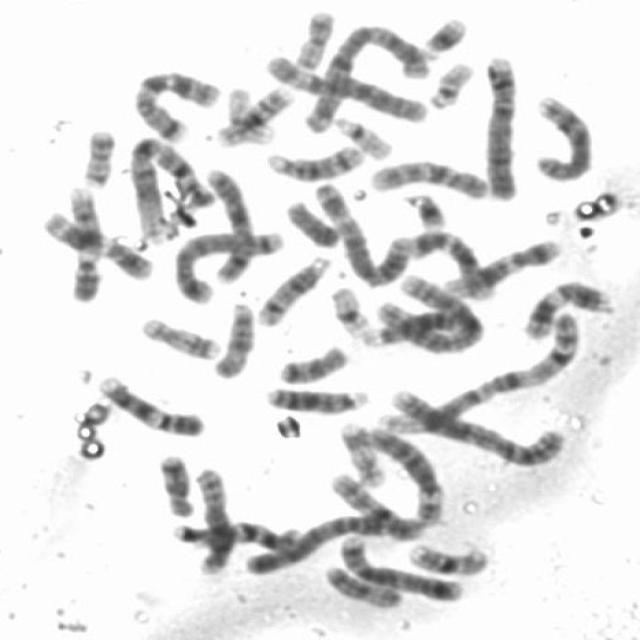A1: (373, 305, 584, 439), (119, 127, 214, 245)
A2: (380, 379, 568, 468), (359, 268, 487, 353)
A3: (294, 14, 434, 135), (307, 173, 417, 288)
B4: (237, 503, 418, 576), (474, 46, 524, 202)
B5: (166, 220, 288, 304), (332, 528, 467, 603)
C10: (321, 464, 426, 542), (362, 150, 493, 201)
C11: (34, 202, 156, 281), (514, 272, 614, 341)
C12: (436, 230, 564, 299), (400, 221, 498, 301)
C6: (256, 45, 433, 124), (356, 419, 447, 526)
C7: (123, 60, 225, 144), (163, 512, 304, 554)
C8: (525, 86, 596, 183), (185, 458, 236, 576)
C9: (89, 367, 207, 438), (56, 176, 106, 305)
D13: (363, 297, 469, 352), (258, 376, 371, 416)
D14: (248, 248, 333, 327), (258, 136, 368, 183)
D15: (204, 293, 258, 380), (315, 558, 404, 610)
E16: (208, 78, 295, 148), (400, 535, 492, 577)
E17: (133, 308, 223, 362), (332, 413, 388, 489)
E18: (270, 336, 352, 385), (150, 446, 198, 518)
F19: (322, 278, 374, 338), (222, 86, 274, 142)
F20: (284, 1, 337, 71), (72, 120, 118, 189)
G21: (414, 8, 470, 58), (396, 184, 451, 232)
G22: (326, 108, 396, 160), (419, 52, 477, 110)
X: (197, 160, 258, 286)
Y: (277, 191, 345, 249)
